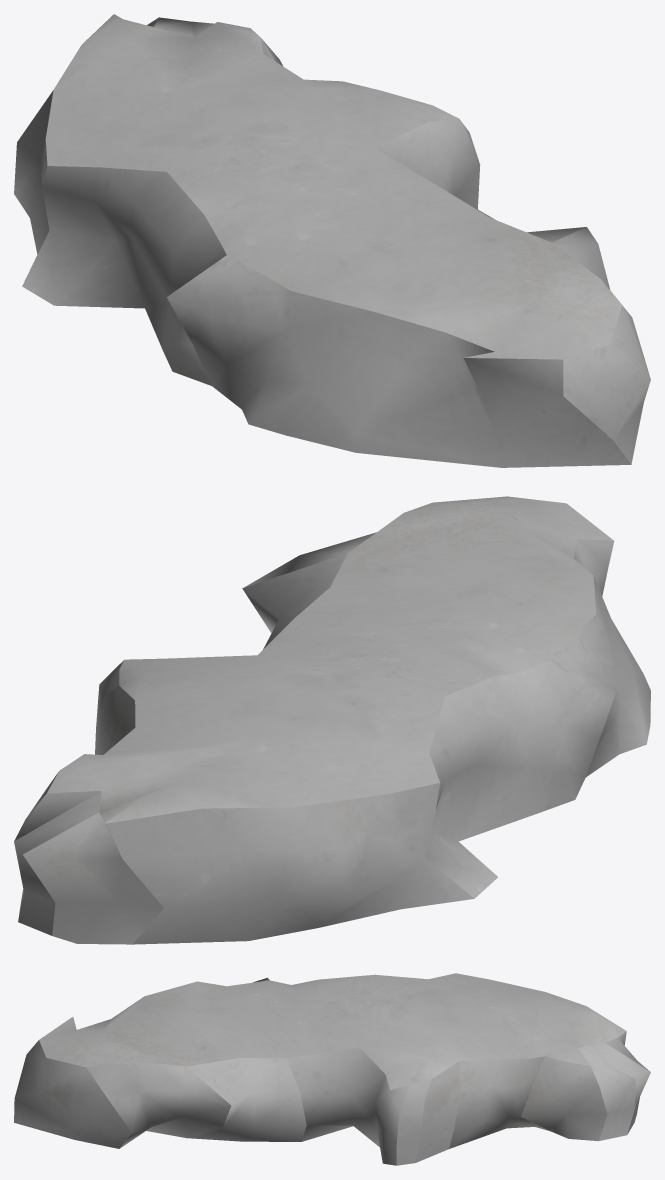
The model's file is SM_Ground_Debris_M5.fbx.
3 views of the same model, one above another, from view 1: azimuth 30°, elevation 25°; view 2: azimuth 150°, elevation 25°; view 3: azimuth 270°, elevation 25° (orthographic). The views are drawn at different scales.
Visible parts, largest first — view 1: SM_Ground_Debris_M5_LOD0; view 2: SM_Ground_Debris_M5_LOD0; view 3: SM_Ground_Debris_M5_LOD0.
Boxes of the visible parts, bbox=[...] form: SM_Ground_Debris_M5_LOD0: bbox=[14, 14, 650, 467]; SM_Ground_Debris_M5_LOD0: bbox=[14, 496, 650, 944]; SM_Ground_Debris_M5_LOD0: bbox=[14, 973, 650, 1165].
Size of the model in its own units: 94.73 by 194 by 30.47.
Materials: 1 (1 with a texture image).
